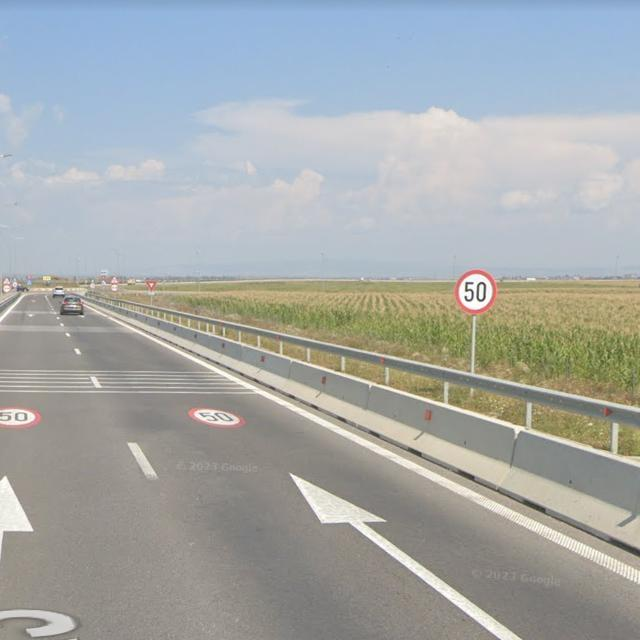forb_speed_over_50: (452, 266, 499, 313), (188, 406, 248, 430), (0, 406, 42, 429)
prio_give_way: (145, 280, 157, 291)
